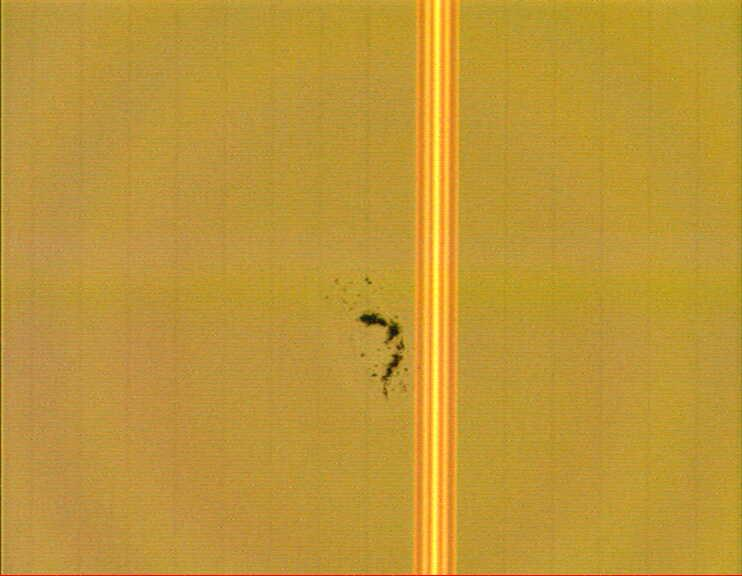PIQ PARTICLE: (324, 270, 411, 403)
